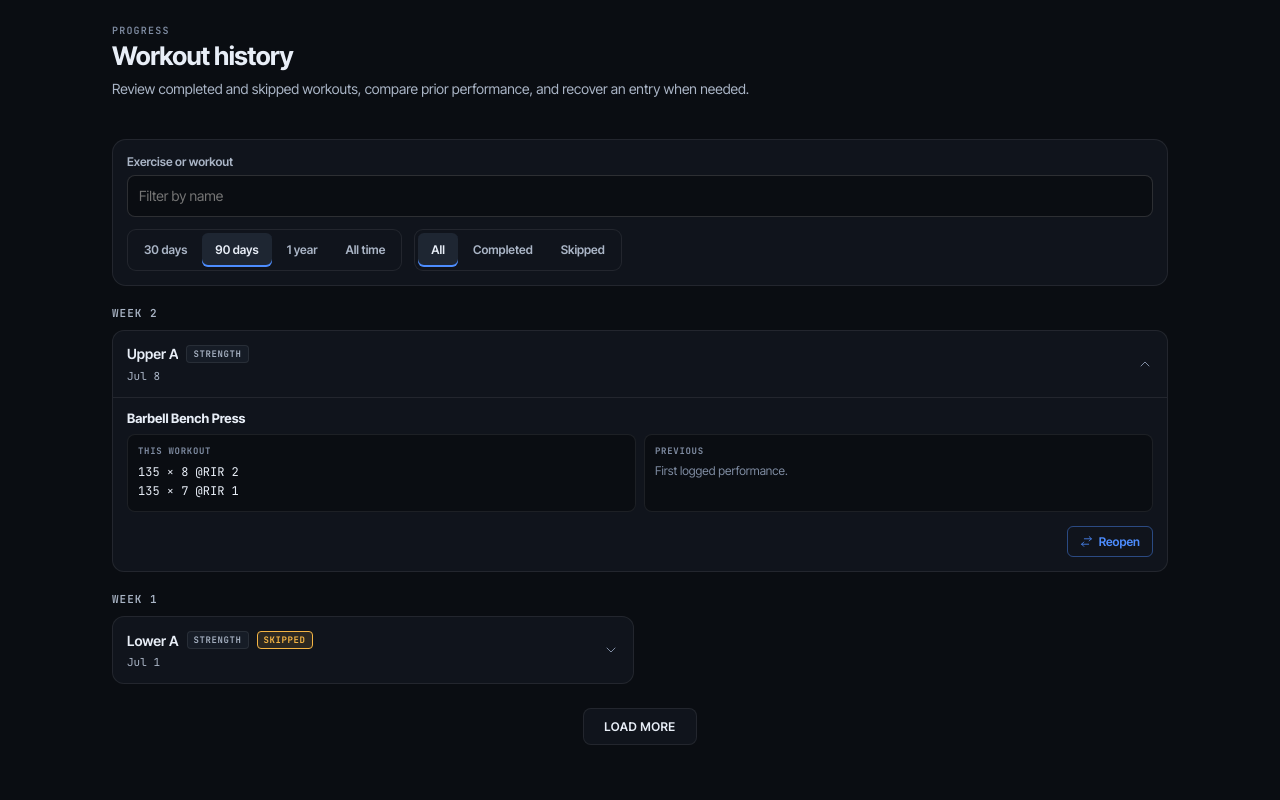
WorkoutHistoryPage › loads more and appends the next page, carrying the cursor
Expected: the text "Upper A" is shown, x1=127 y1=345 x2=178 y2=362
Expected: the text "Conditioning" is not shown
Click the button "LOAD MORE". click: coordinates (640, 726)
box: x1=583 y1=708 x2=697 y2=745
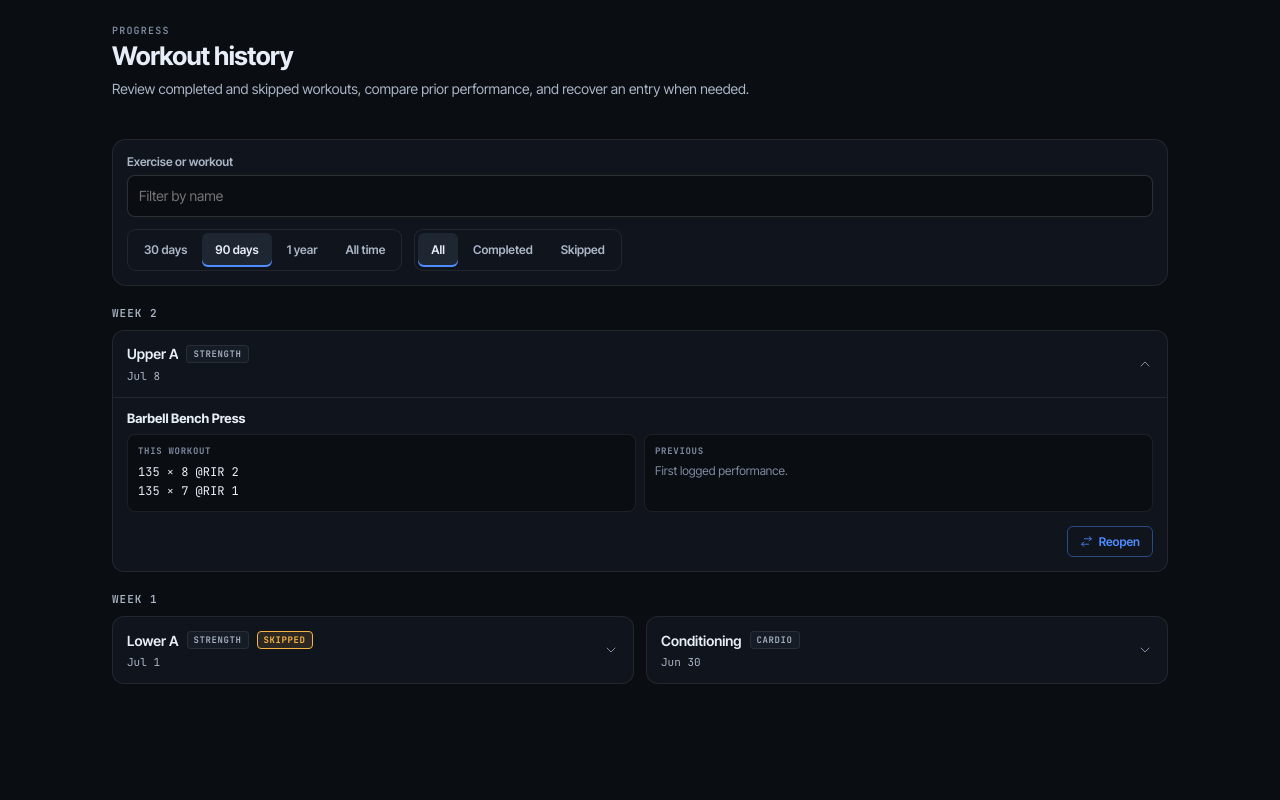
Expected: the text "Upper A" is shown, x1=127 y1=345 x2=178 y2=362
Expected: the text "Conditioning" is shown, x1=661 y1=632 x2=742 y2=648
Expected: the button "LOAD MORE" is gone
